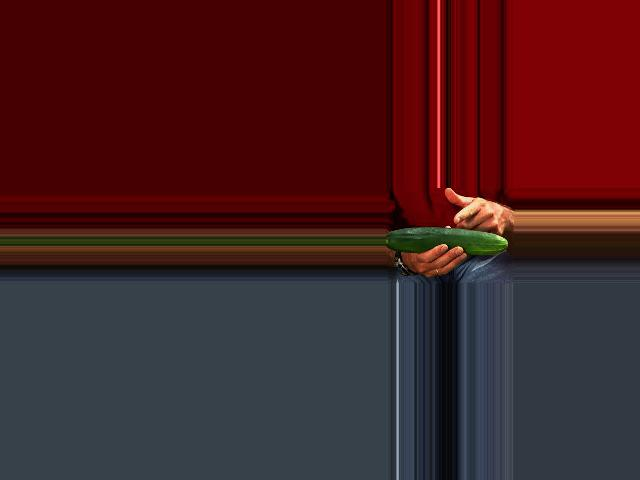cucumber: (385, 227, 507, 256)
